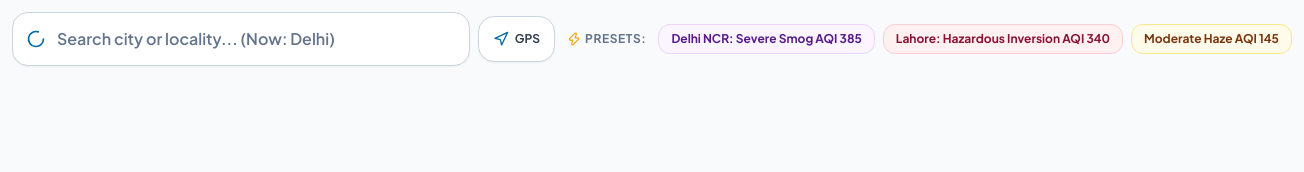
Test case: Final branch coverage for >= 90% branches › CitySelector handles Clear search button, focus reopen, and loading state
Type "Pune" into the dropdown at [241, 39], box x1=12 y1=12 x2=470 y2=66
Wait 400 ms
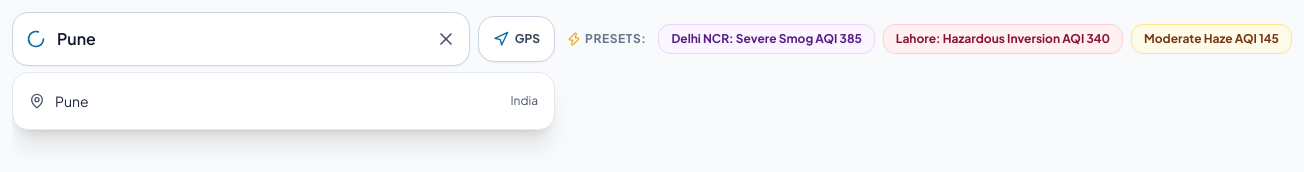
Click the button named "Clear search" at [453, 39], box x1=436 y1=12 x2=470 y2=66
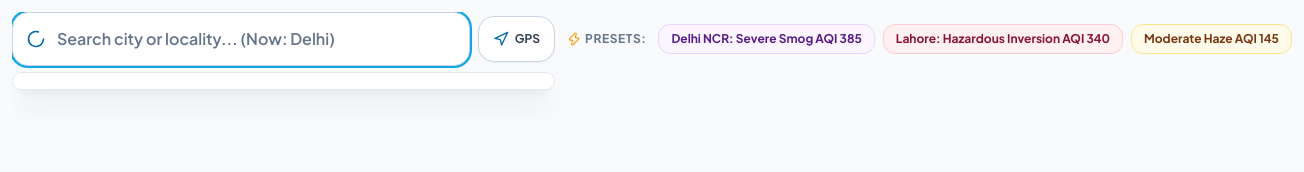
Check: the dropdown is empty, box x1=12 y1=12 x2=470 y2=66
